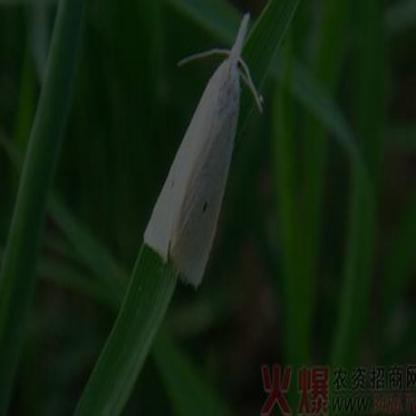stem-borer: (141, 11, 265, 296)
